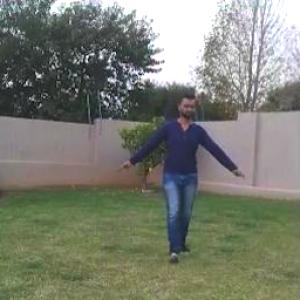land: (110, 79, 258, 273)
